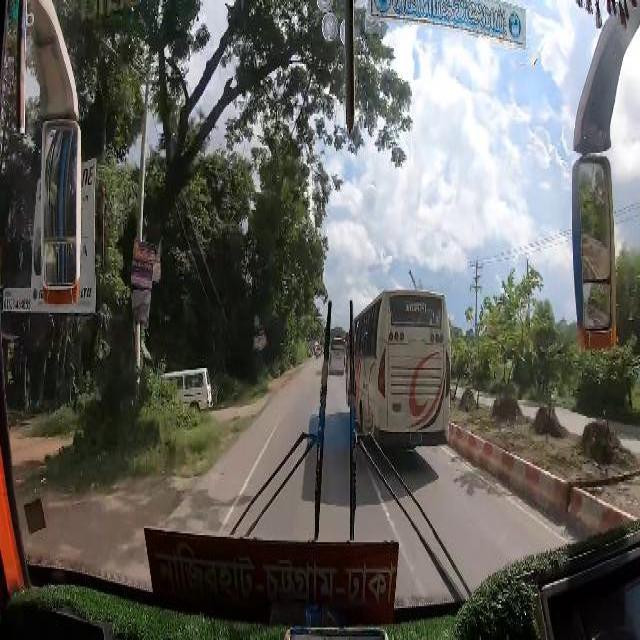19: (160, 369, 212, 413)
Truck: (346, 289, 448, 451), (328, 335, 344, 373)
